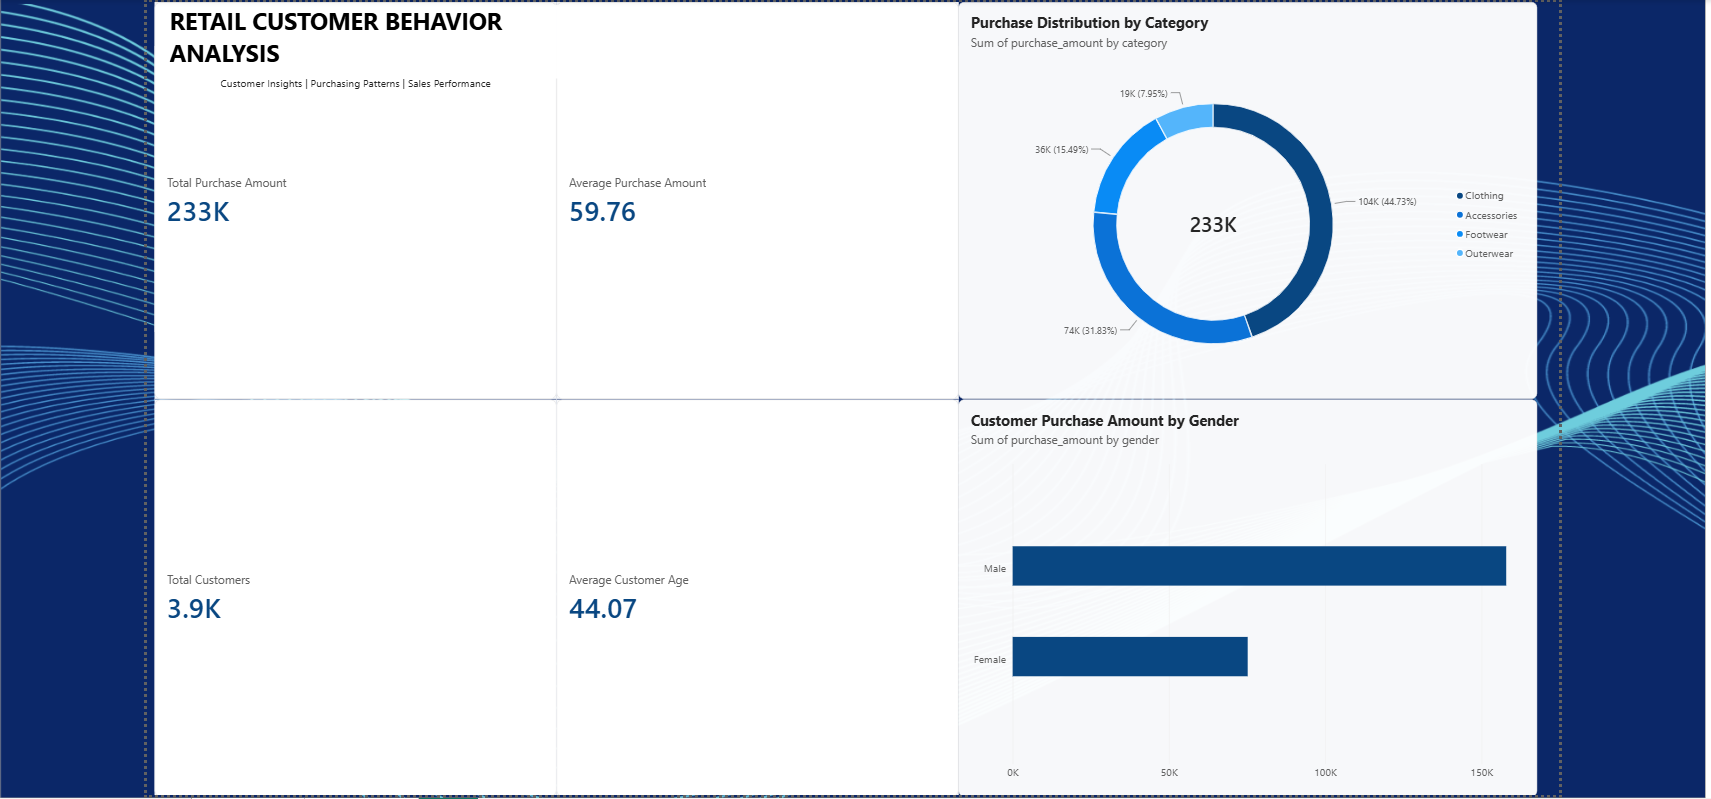

Layout of this report page (visuals, bound fields, positions):
{"tool":"powerbi","page":{"name":"Page 1","canvas":[1920,1080],"ordinal":0},"visuals":[{"type":"cardVisual","fields":{"Data":["Sum(public customer.purchase_amount)"]},"box":[10,0,547.5,540],"z":0},{"type":"cardVisual","fields":{"Data":["Count(public customer.customer_id)"]},"box":[10,540,547.5,540],"z":1000},{"type":"cardVisual","fields":{"Data":["Avg(public customer.purchase_amount)"]},"box":[557.5,0,547.5,540],"z":2000},{"type":"cardVisual","fields":{"Data":["Avg(public customer.age)"]},"box":[557.5,540,547.5,540],"z":3000},{"type":"donutChart","title":"Purchase Distribution by Category","fields":{"Category":["public customer.category"],"Y":["Sum(public customer.purchase_amount)"]},"box":[1105,0,787.5,540],"z":4000},{"type":"barChart","title":"Customer Purchase Amount by Gender","fields":{"Category":["public customer.gender"],"Y":["Sum(public customer.purchase_amount)"]},"box":[1105,540,787.5,540],"z":5000},{"type":"textbox","box":[100,100,247.5,112.5],"z":6000},{"type":"textbox","box":[30,5,600,100],"z":7000},{"type":"textbox","box":[100,100,410,57.5],"z":8000}]}

Visuals, with their boxes on the page's 1920x1080 design canvas (x1, y1, x2, y2). These are canvas units, not pixel positions in the 1711x799 screenshot, which may show the page scaled, cropped or inside an application window:
cardVisual - Sum(public customer.purchase_amount): {"x1": 10, "y1": 0, "x2": 558, "y2": 540}
cardVisual - Count(public customer.customer_id): {"x1": 10, "y1": 540, "x2": 558, "y2": 1080}
cardVisual - Avg(public customer.purchase_amount): {"x1": 558, "y1": 0, "x2": 1105, "y2": 540}
cardVisual - Avg(public customer.age): {"x1": 558, "y1": 540, "x2": 1105, "y2": 1080}
"Purchase Distribution by Category" donutChart: {"x1": 1105, "y1": 0, "x2": 1892, "y2": 540}
"Customer Purchase Amount by Gender" barChart: {"x1": 1105, "y1": 540, "x2": 1892, "y2": 1080}
textbox: {"x1": 100, "y1": 100, "x2": 348, "y2": 212}
textbox: {"x1": 30, "y1": 5, "x2": 630, "y2": 105}
textbox: {"x1": 100, "y1": 100, "x2": 510, "y2": 158}
